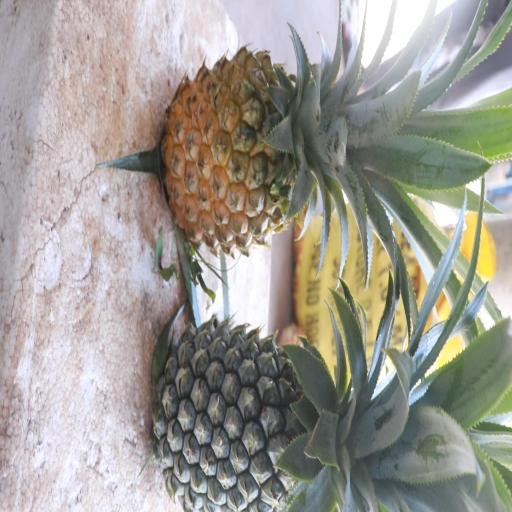Pineapple - v8 v1: (162, 36, 413, 249)
